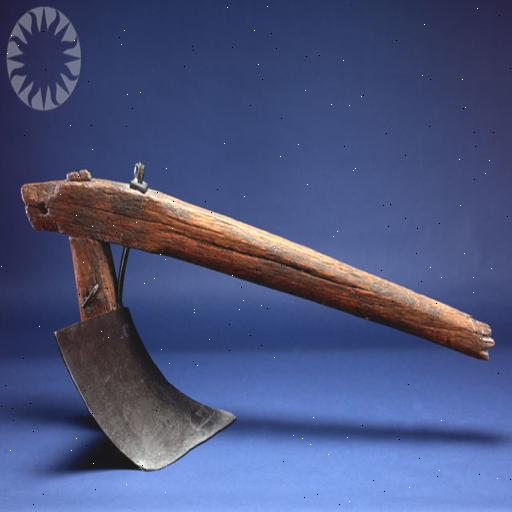Axe: (18, 156, 498, 472)
